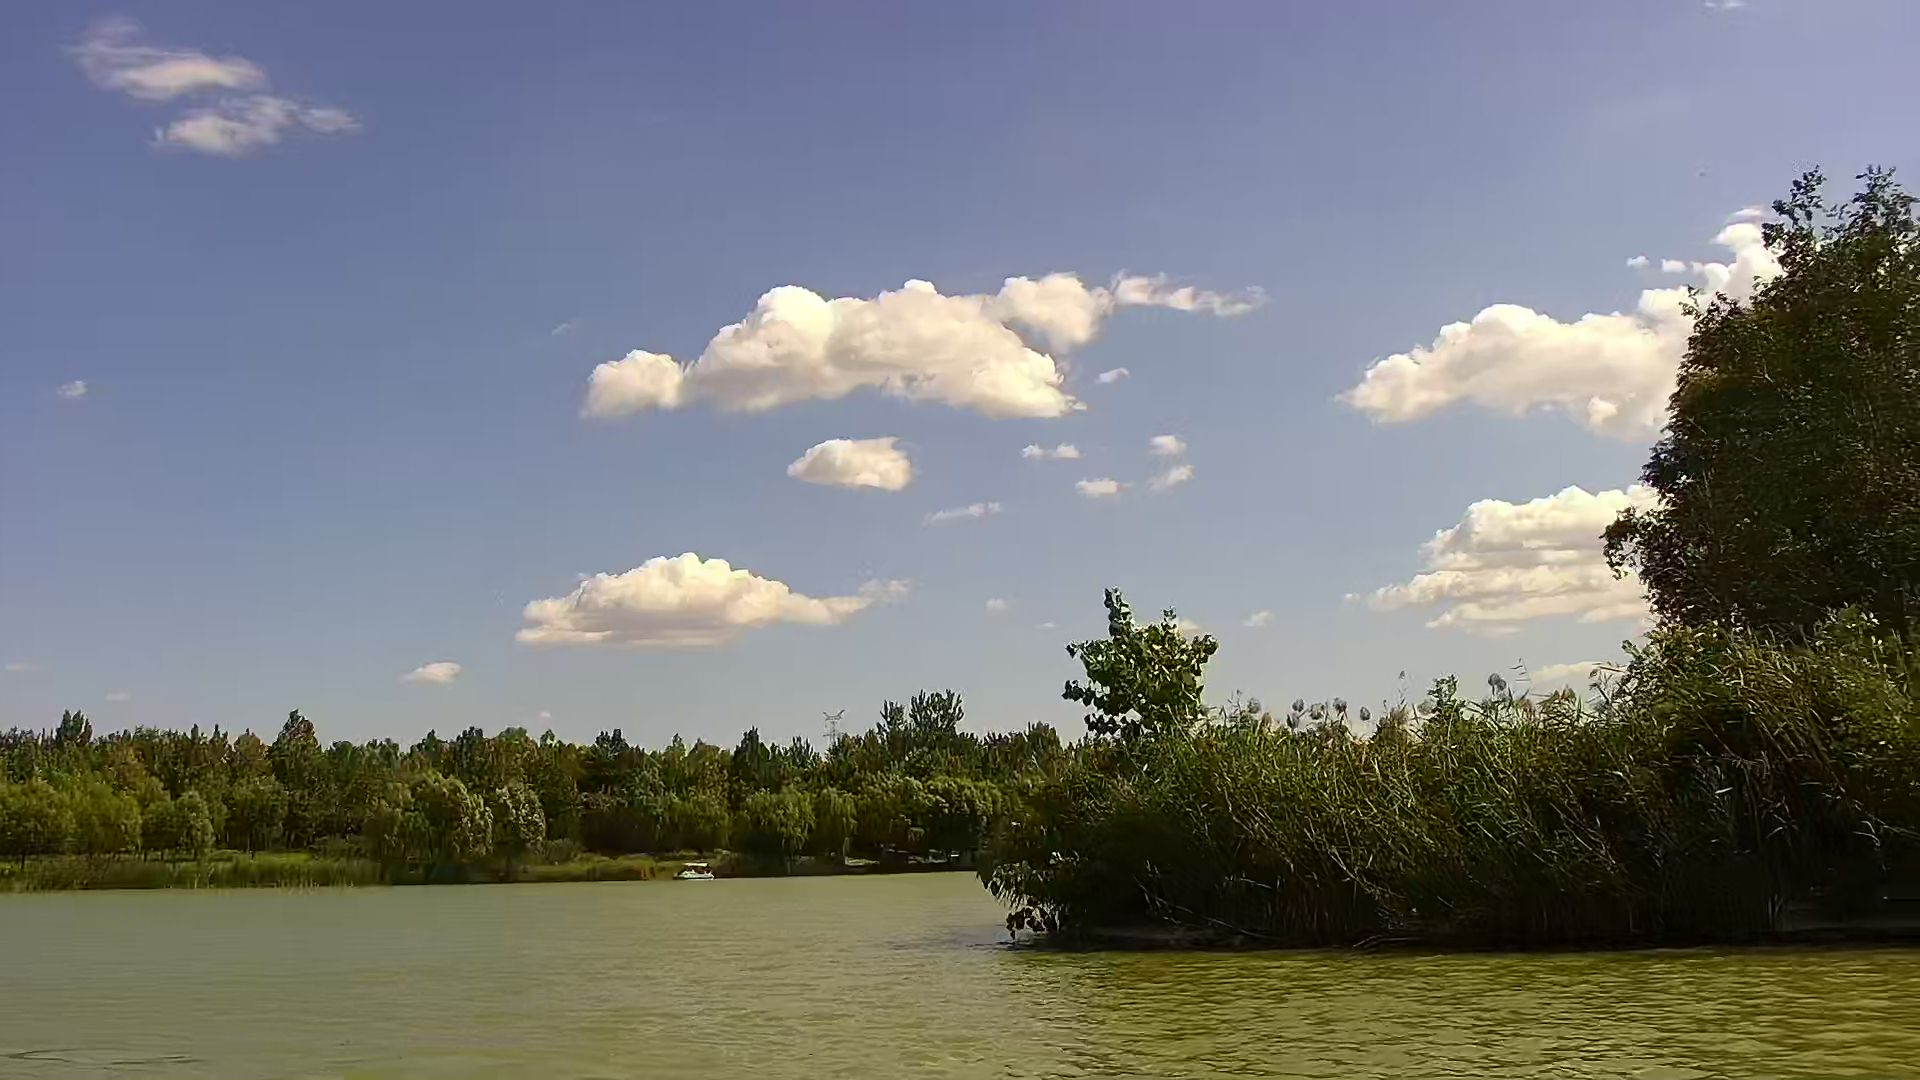boat: (676, 858, 713, 884)
